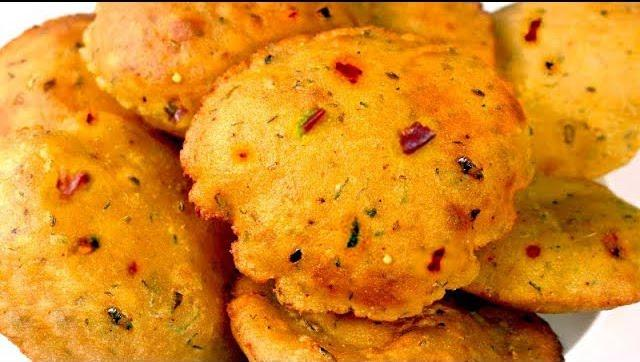puri: (5, 4, 640, 362)
